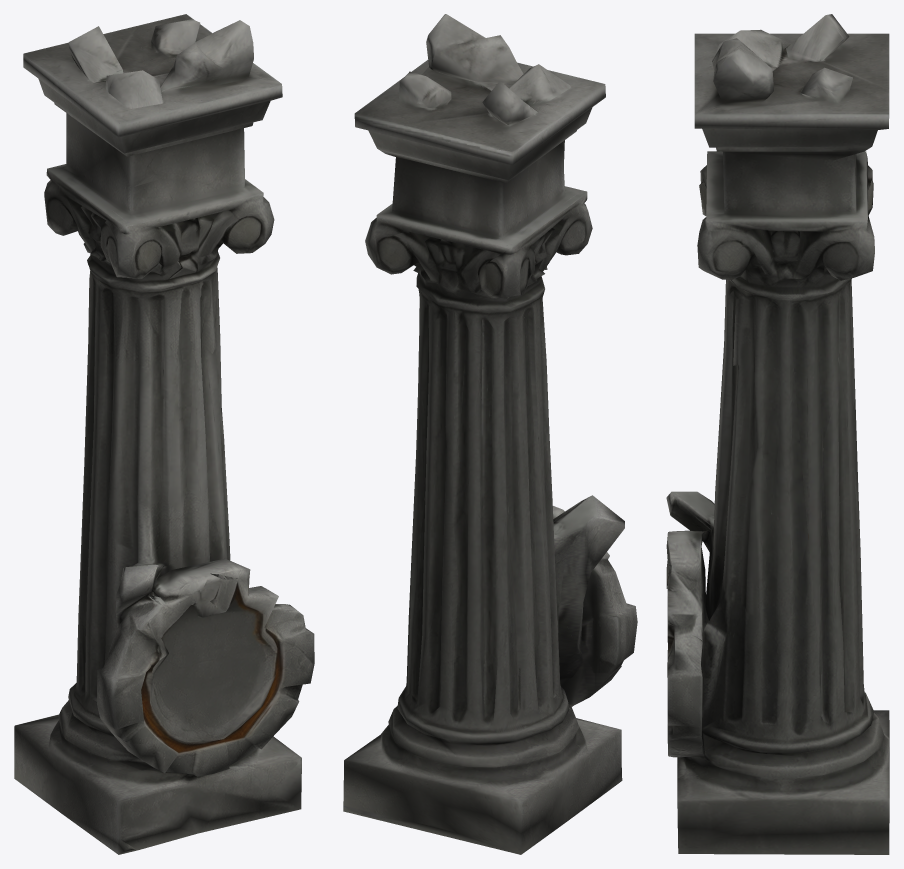
File: ruined_pillar.glb
3 views of the same model, side by side, from view 1: azimuth 30°, elevation 25°; view 2: azimuth 150°, elevation 25°; view 3: azimuth 270°, elevation 25° (orthographic). The views are drawn at different scales.
Size of the model in its own units: 0.5177 by 1.9 by 0.4866.
Materials: 1 (1 with a texture image).
